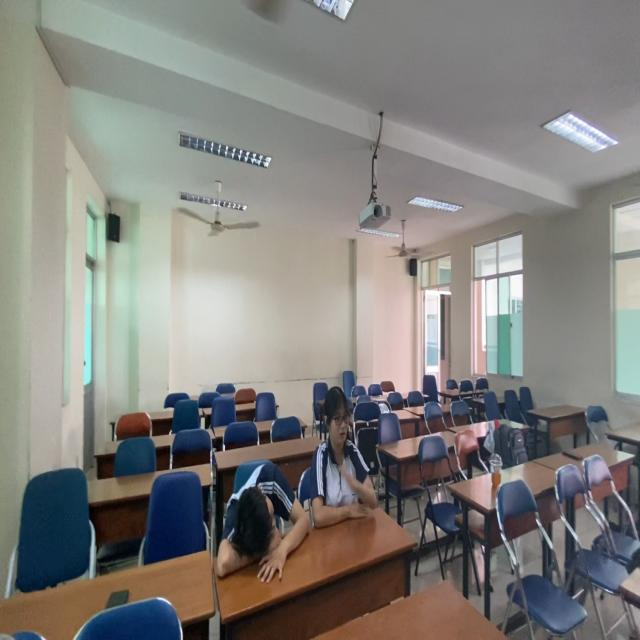sleep: (199, 455, 318, 589)
